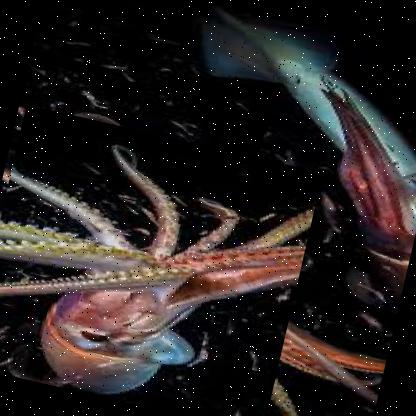colossal_squid: (0, 103, 324, 415)
